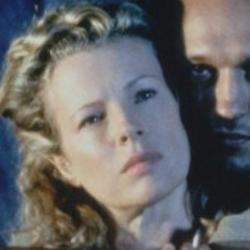face: (2, 5, 219, 245)
